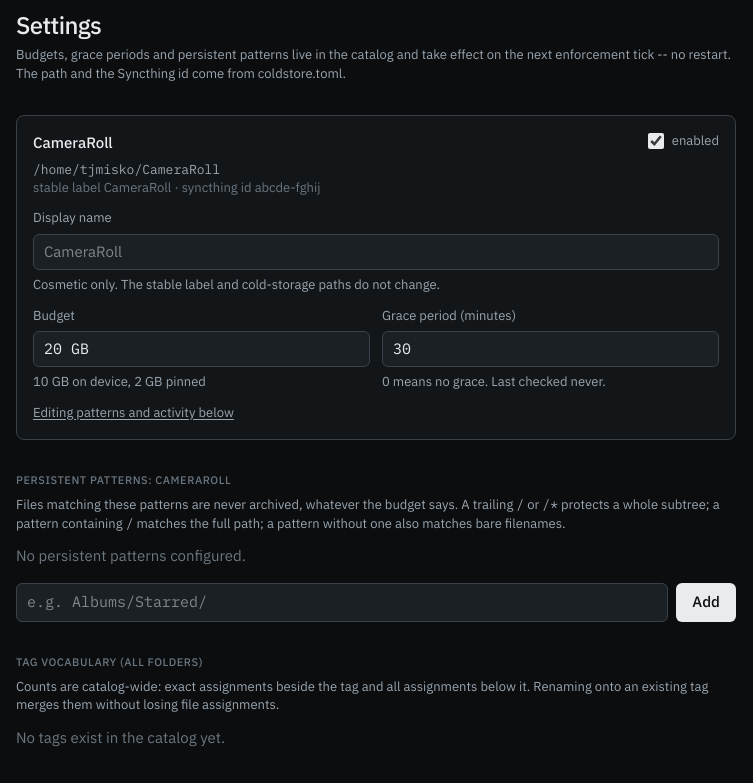
Test: ConfigPanel › should accept a zero grace period but not a negative one
Replace the text in the number field labelled "Grace period (minutes)" with "0": (550, 349) [382,331,719,367]
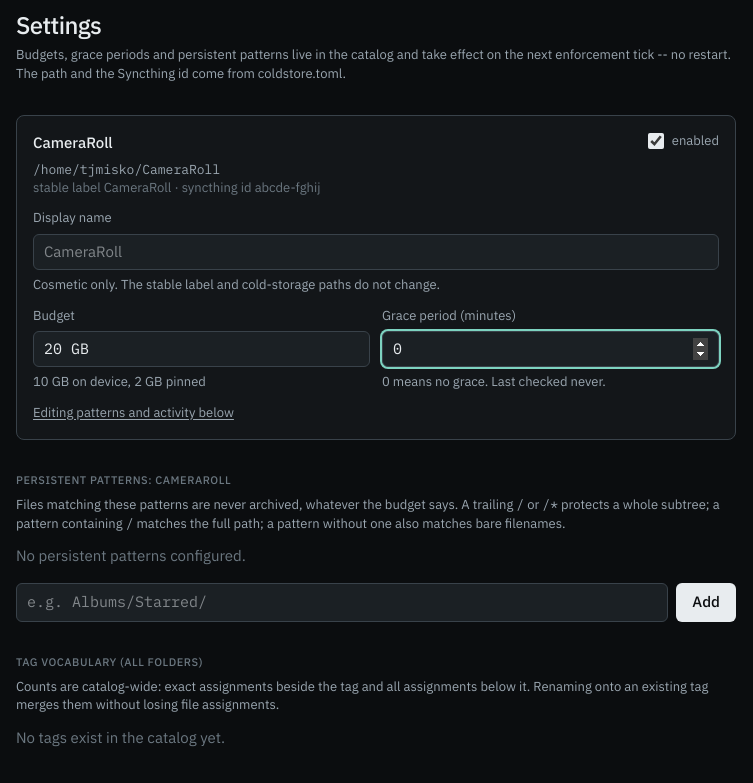
Press Tab
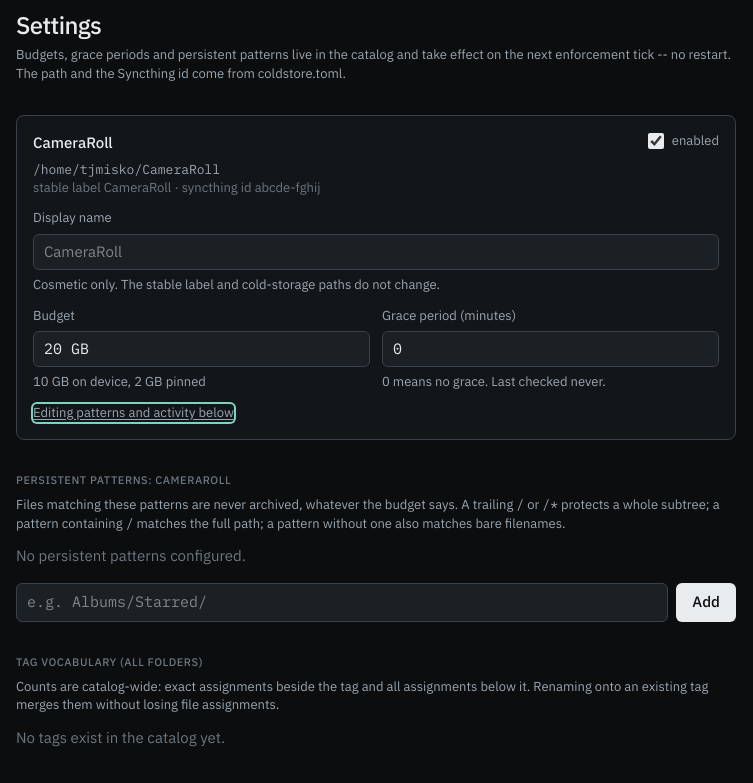
Replace the text in the number field labelled "Grace period (minutes)" with "-5": (550, 349) [382,331,719,367]
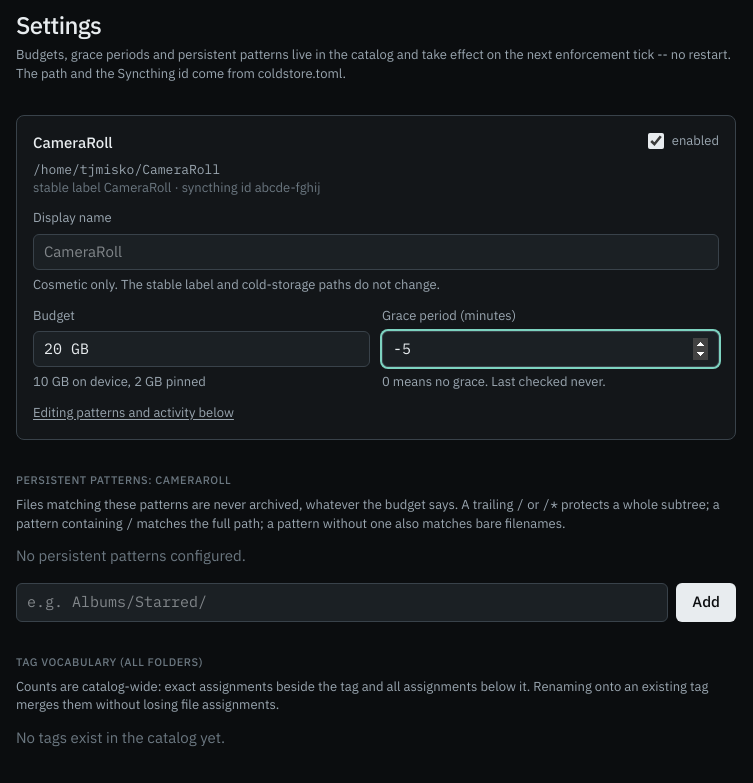
Press Tab
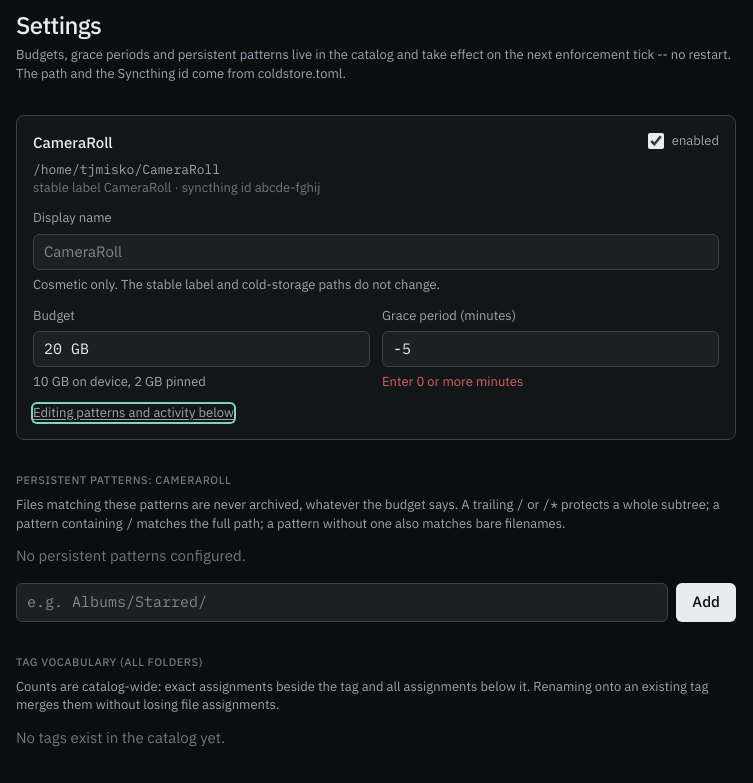
Expected: the text "Enter 0 or more minutes" is shown, [382,373,523,390]
